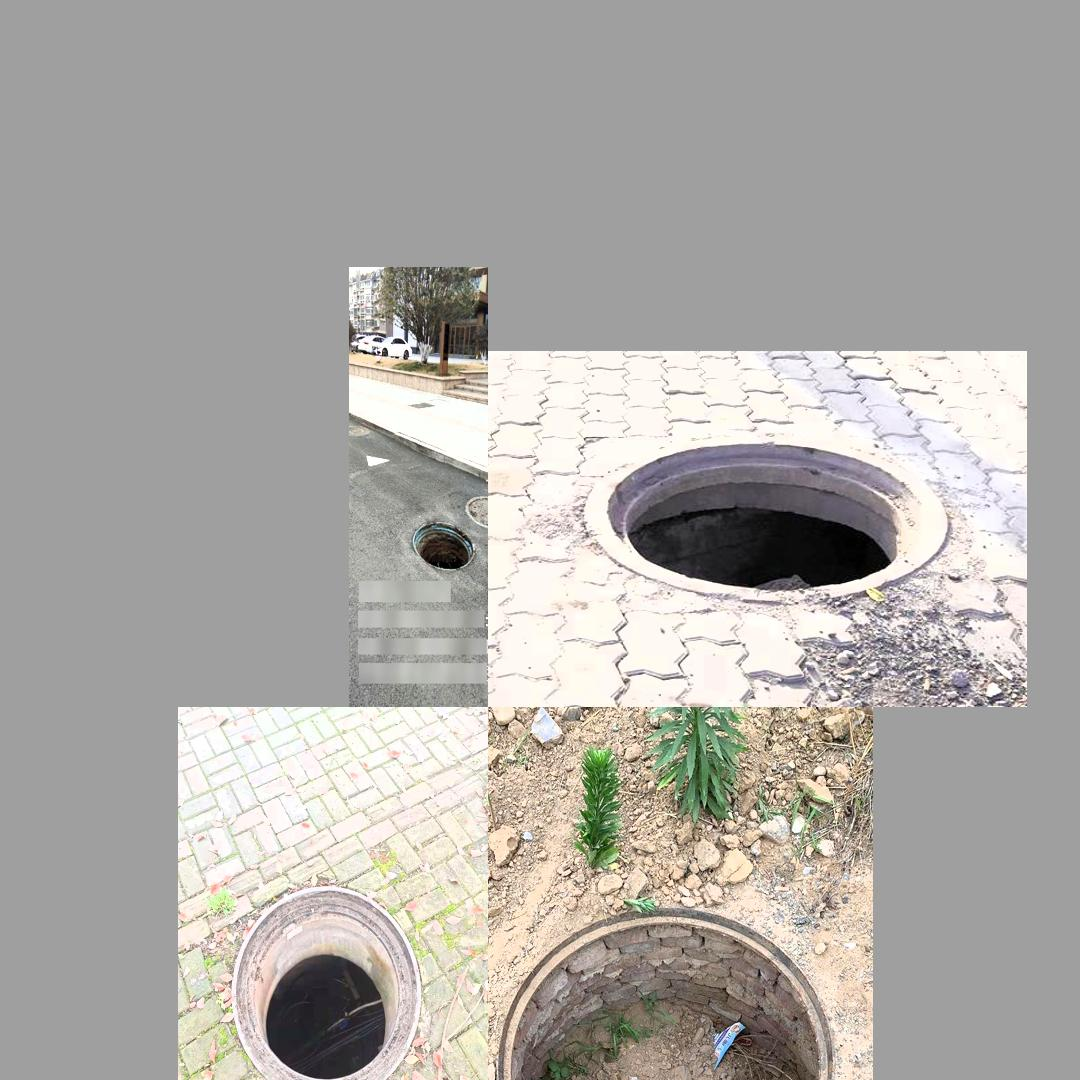lose: (565, 430, 959, 609), (499, 897, 846, 1080), (231, 885, 421, 1080), (412, 521, 475, 571)
